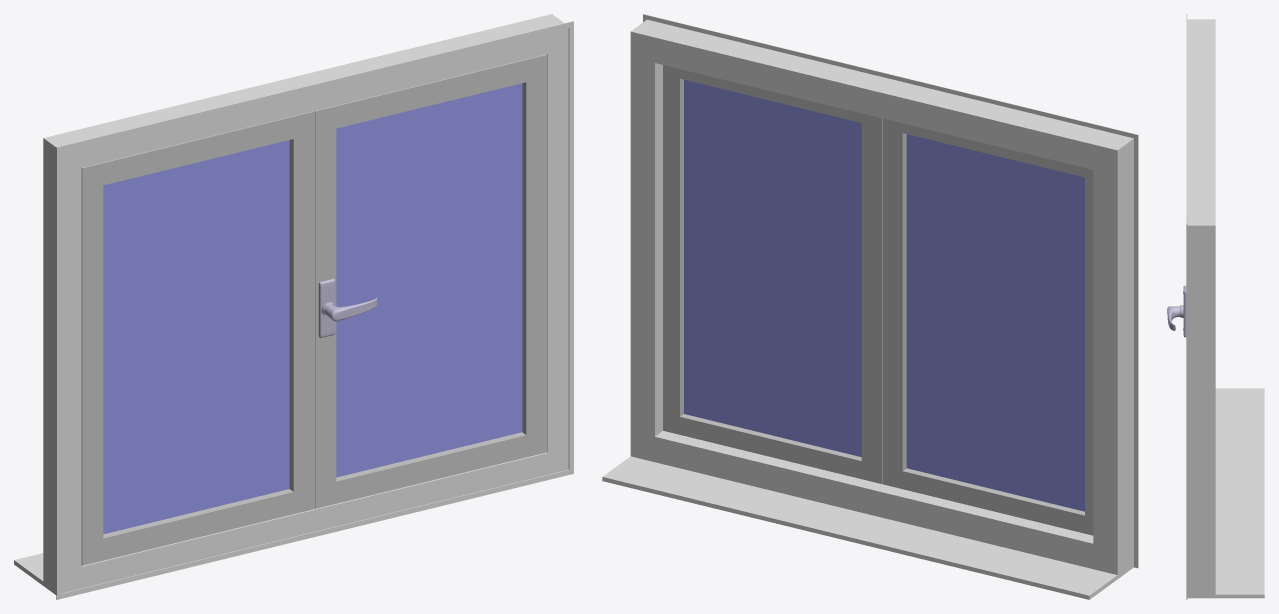
Rendered from window.fbx.
The picture shows the model from 3 angles, left to right: view 1: azimuth 30°, elevation 25°; view 2: azimuth 150°, elevation 25°; view 3: azimuth 270°, elevation 25°; orthographic projection. The views are drawn at different scales.
Visible parts, largest first — view 1: Window.L, Window.R, WindowFrame, Handle; view 2: Window.R, Window.L, WindowFrame, Windows_Sill; view 3: WindowFrame, Windows_Sill, Handle.
Part boxes in pixels (left/top/right/bottom): Window.L: left=81, top=111, right=314, bottom=565; Window.R: left=314, top=54, right=547, bottom=508; WindowFrame: left=43, top=14, right=573, bottom=599; Handle: left=318, top=278, right=377, bottom=337; Window.R: left=663, top=65, right=882, bottom=484; Window.L: left=882, top=118, right=1093, bottom=535; WindowFrame: left=630, top=14, right=1138, bottom=574; Windows_Sill: left=602, top=456, right=1133, bottom=599; WindowFrame: left=1186, top=14, right=1215, bottom=599; Windows_Sill: left=1187, top=388, right=1264, bottom=598; Handle: left=1167, top=285, right=1186, bottom=337.
Bounding box in the file's own units: 122 × 102 × 23.86.
